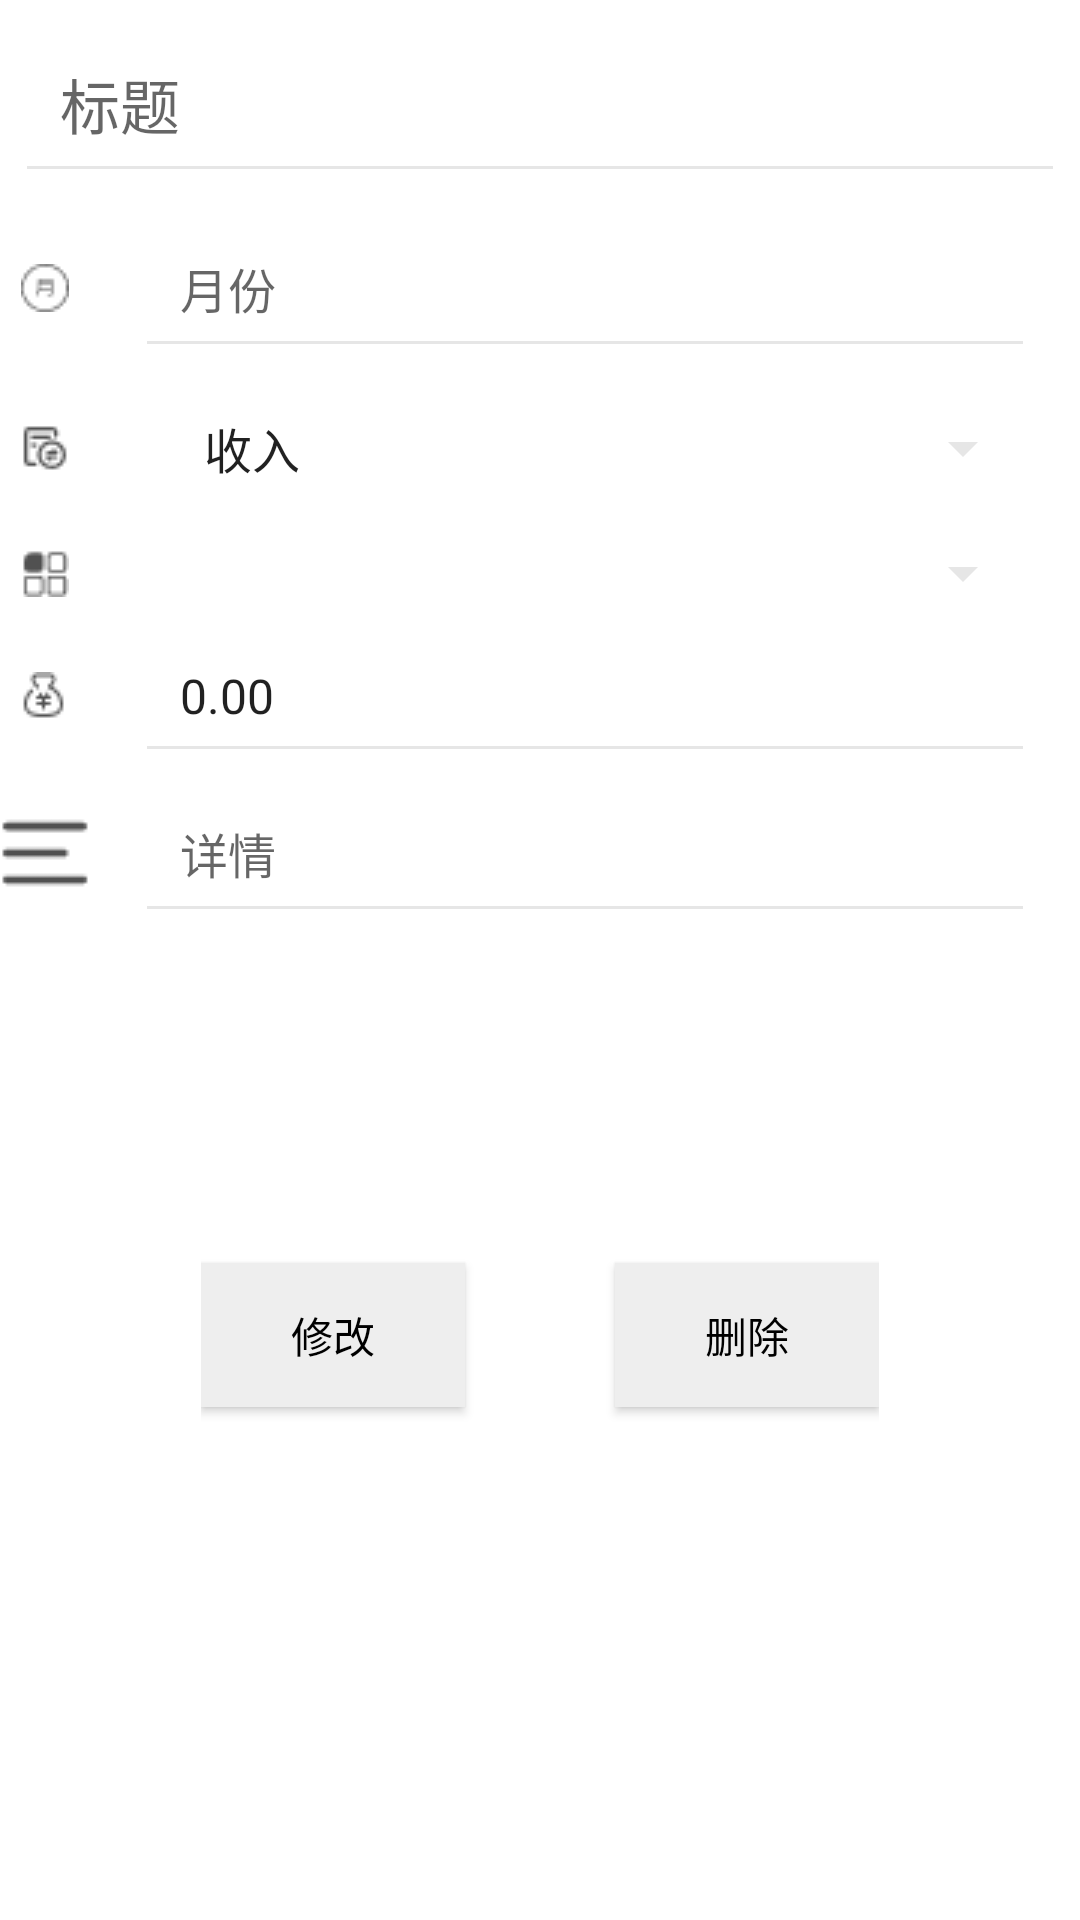

Locate icon controls on the screen. Image size 1080×1920, boxes as {"x1": x1, "y1": y1, "x2": x2, "y2": y2}.
datam: {"x1": 21, "y1": 264, "x2": 69, "y2": 312}
money: {"x1": 23, "y1": 672, "x2": 64, "y2": 718}
